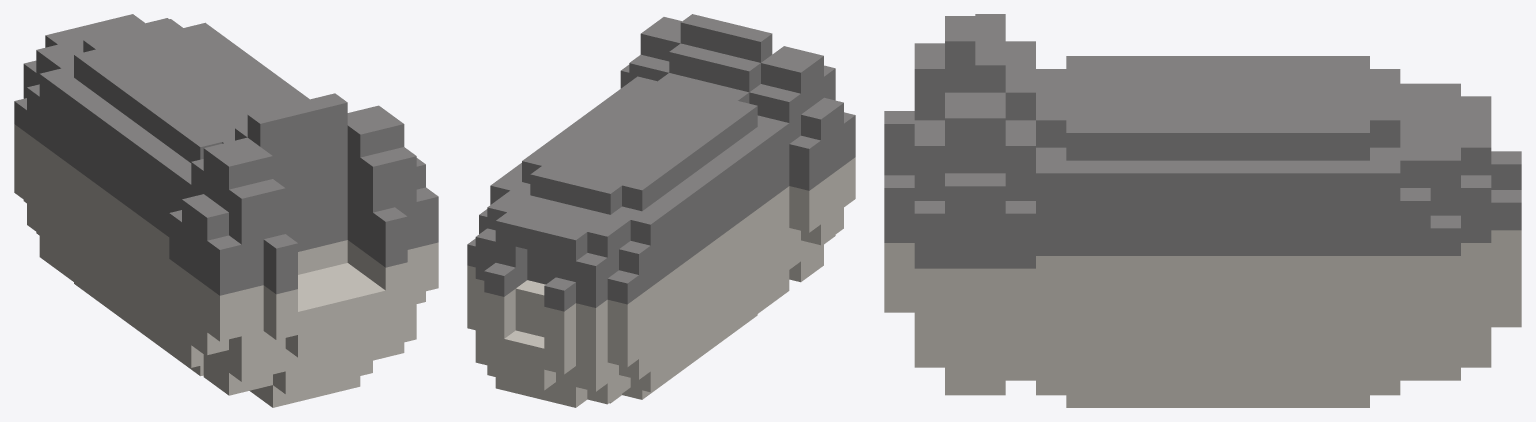
The model's file is wolf__body.obj.
3 renders of one model, left to right at view 1: azimuth 30°, elevation 25°; view 2: azimuth 150°, elevation 25°; view 3: azimuth 270°, elevation 25°, orthographic. The views are drawn at different scales.
Parts seen in each view (by area): view 1: wolf__body; view 2: wolf__body; view 3: wolf__body.
Boxes of the visible parts, <box> form: wolf__body: <box>14,14,438,407</box>; wolf__body: <box>467,14,855,407</box>; wolf__body: <box>884,14,1521,407</box>.
Bounding box in the file's own units: 1 × 1.2 × 2.1.
Materials: 1 (1 with a texture image).
